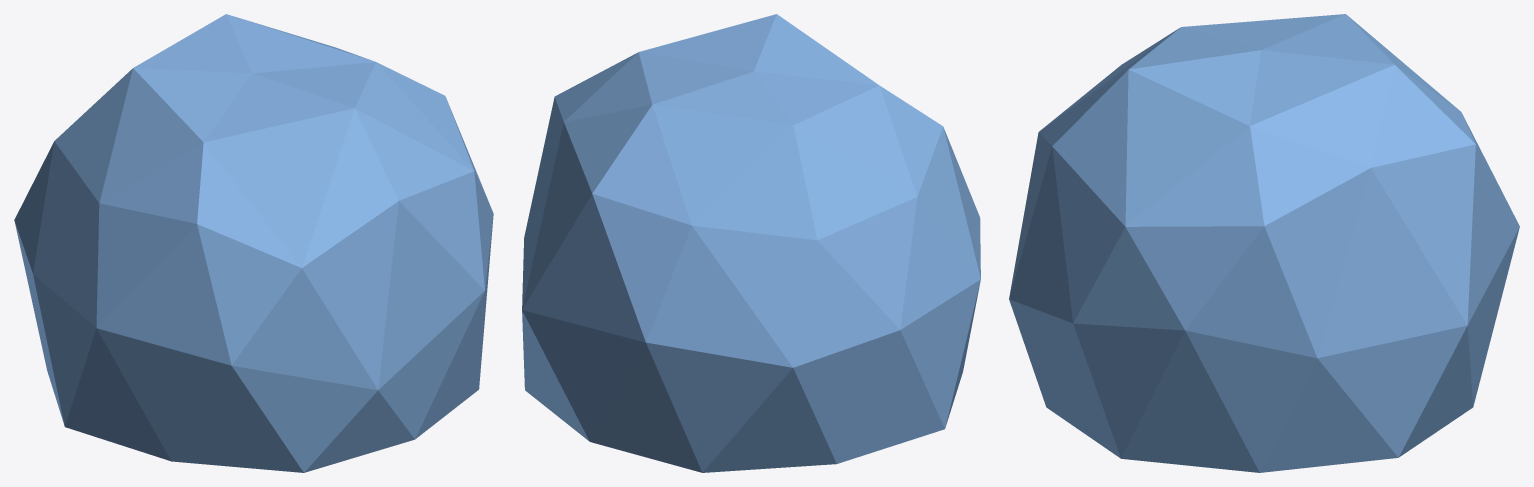
The model's file is SlimeWatah.fbx.
3 views of the same model, side by side, from view 1: azimuth 30°, elevation 25°; view 2: azimuth 150°, elevation 25°; view 3: azimuth 270°, elevation 25° (orthographic). The views are drawn at different scales.
Parts seen in each view (by area): view 1: SlimeWatah; view 2: SlimeWatah; view 3: SlimeWatah.
Part boxes in pixels (x1,y1,x2,y2): SlimeWatah: (14,14,493,472); SlimeWatah: (522,14,980,472); SlimeWatah: (1009,14,1519,472).
Size of the model in its own units: 172 by 130 by 181.
